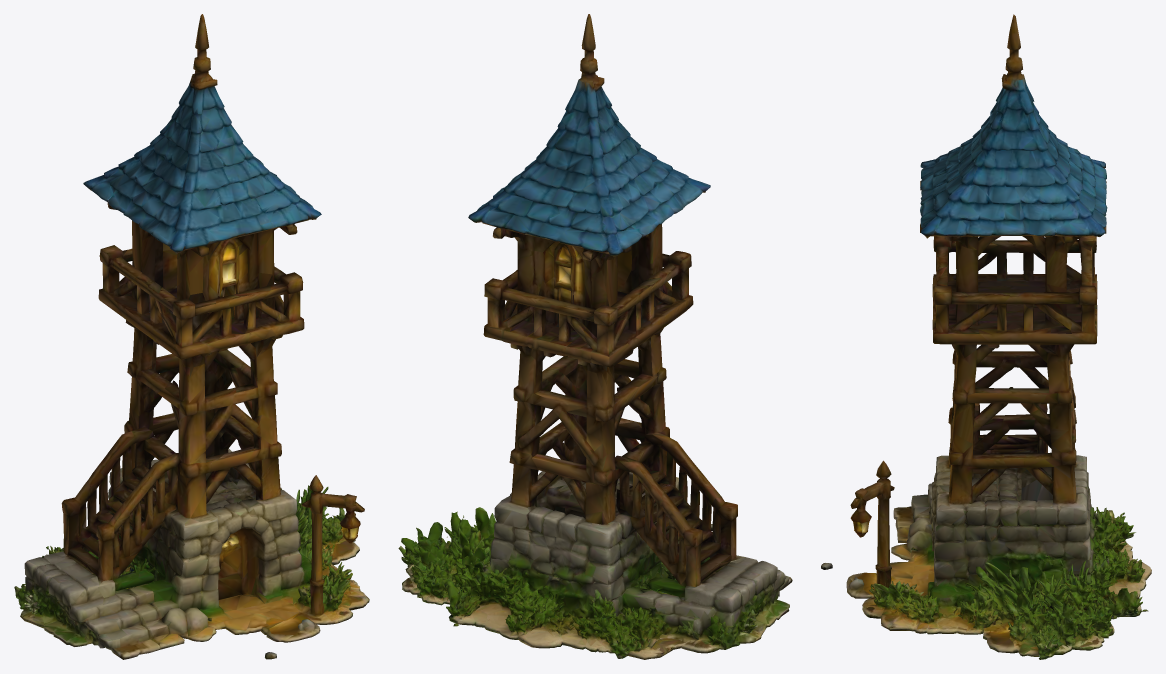
The model's file is Watchtower_T2.glb.
3 renders of one model, left to right at view 1: azimuth 30°, elevation 25°; view 2: azimuth 150°, elevation 25°; view 3: azimuth 270°, elevation 25°, orthographic. The views are drawn at different scales.
Parts seen in each view (by area): view 1: Watchtower_T2; view 2: Watchtower_T2; view 3: Watchtower_T2.
Boxes of the visible parts, left/top/right/bottom form: Watchtower_T2: left=14, top=14, right=369, bottom=659; Watchtower_T2: left=398, top=14, right=792, bottom=659; Watchtower_T2: left=821, top=14, right=1151, bottom=659.
Bounding box in the file's own units: 1.2 × 1.9 × 1.01.
Materials: 1 (1 with a texture image).
